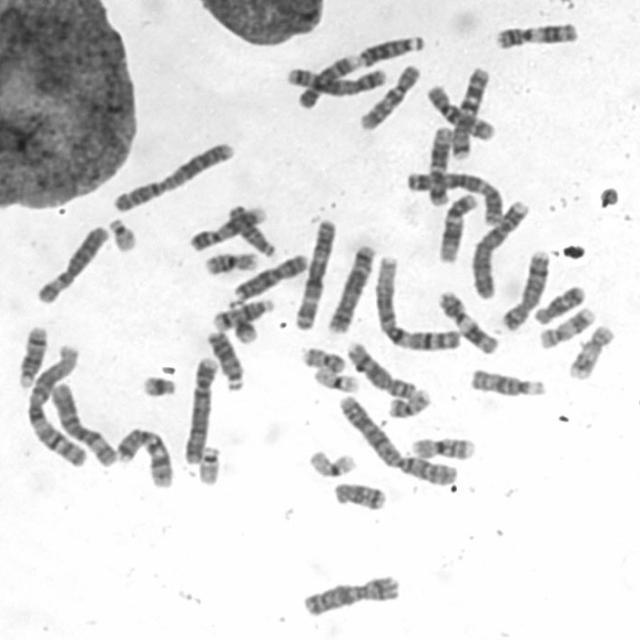A1: (372, 252, 462, 354), (22, 341, 89, 467)
A2: (335, 391, 459, 487), (109, 137, 237, 213)
A3: (402, 168, 506, 225), (291, 215, 338, 332)
B4: (468, 198, 531, 300), (180, 353, 220, 466)
B5: (324, 240, 378, 336), (284, 63, 388, 99)
C10: (354, 60, 423, 132), (423, 81, 497, 141)
C11: (432, 288, 500, 356), (493, 19, 579, 51)
C12: (434, 190, 479, 264), (424, 125, 455, 207)
C6: (33, 222, 109, 306), (49, 380, 118, 468)
C7: (448, 63, 492, 160), (112, 423, 175, 489)
C8: (342, 338, 418, 400), (497, 246, 551, 331)
C9: (185, 202, 268, 252), (296, 54, 359, 112)
D13: (204, 328, 245, 392), (355, 32, 423, 68)
D14: (210, 295, 276, 331), (14, 324, 49, 389)
D15: (225, 201, 278, 259), (468, 364, 548, 398)
E16: (407, 433, 477, 462), (202, 248, 260, 276)
E17: (564, 321, 616, 381), (536, 304, 596, 350)
E18: (531, 282, 586, 326), (330, 478, 388, 512)
F19: (305, 447, 359, 479), (310, 364, 362, 394)
F20: (384, 385, 432, 419), (299, 344, 346, 375)
G21: (136, 371, 180, 398), (230, 312, 258, 344)
G22: (105, 214, 138, 254), (195, 442, 223, 487)
X: (298, 570, 403, 618), (231, 250, 309, 300)
